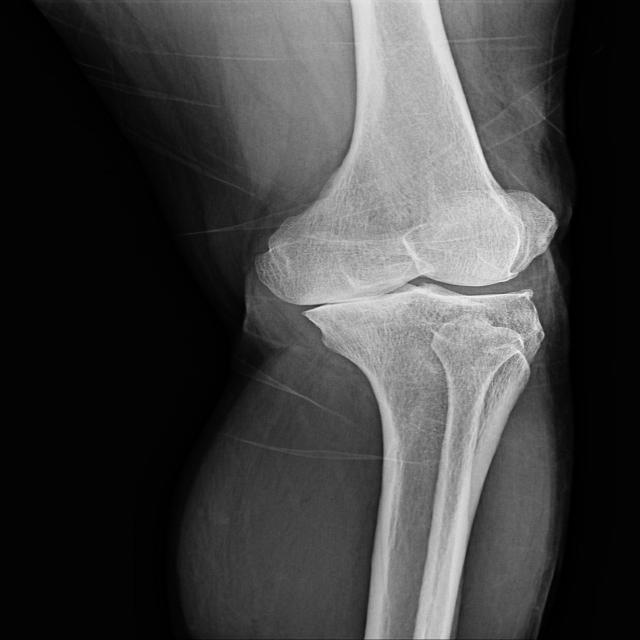osteo: (247, 217, 560, 337)
